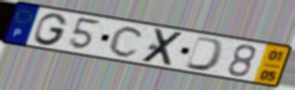5: (66, 15, 103, 53)
8: (227, 43, 257, 78)
C: (107, 25, 146, 59)
D: (183, 35, 228, 73)
G: (32, 12, 70, 47)
X: (139, 27, 187, 68)
